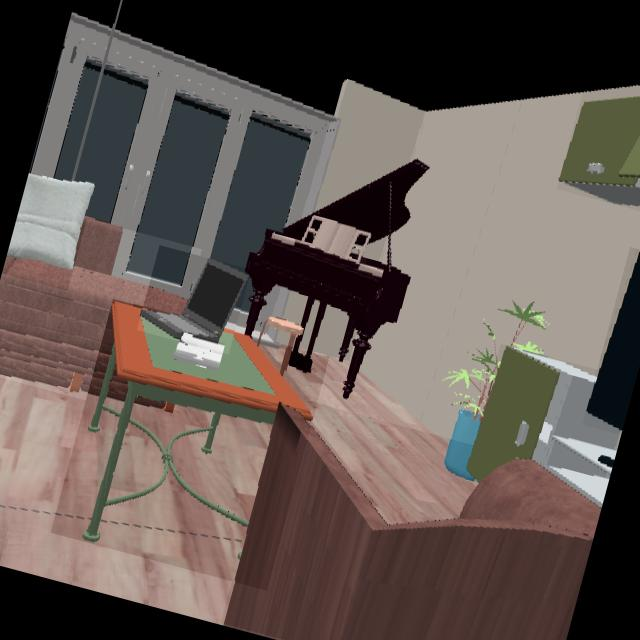book: (178, 333, 223, 363)
cabinet: (466, 346, 621, 507), (558, 84, 640, 209)
laptop: (140, 259, 249, 344)
monitor: (585, 253, 640, 434)
pillow: (1, 174, 95, 273)
sofa: (223, 409, 602, 640), (0, 219, 187, 396)
table: (82, 303, 312, 541)
